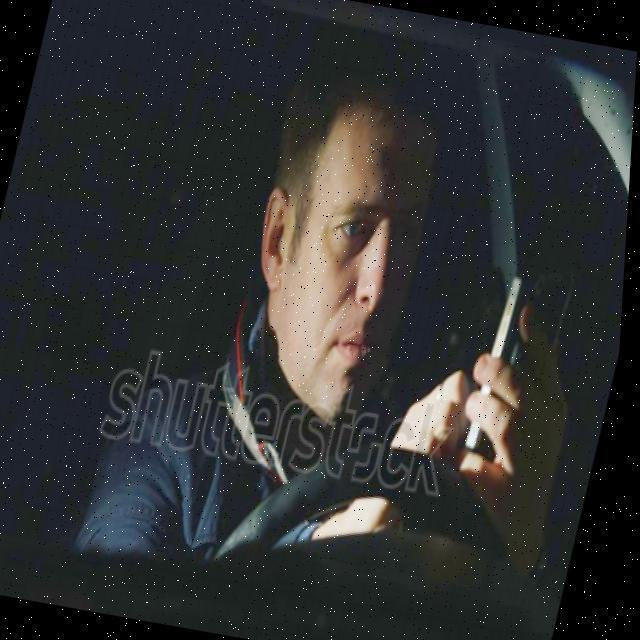PhoneCall: (467, 250, 582, 460)
